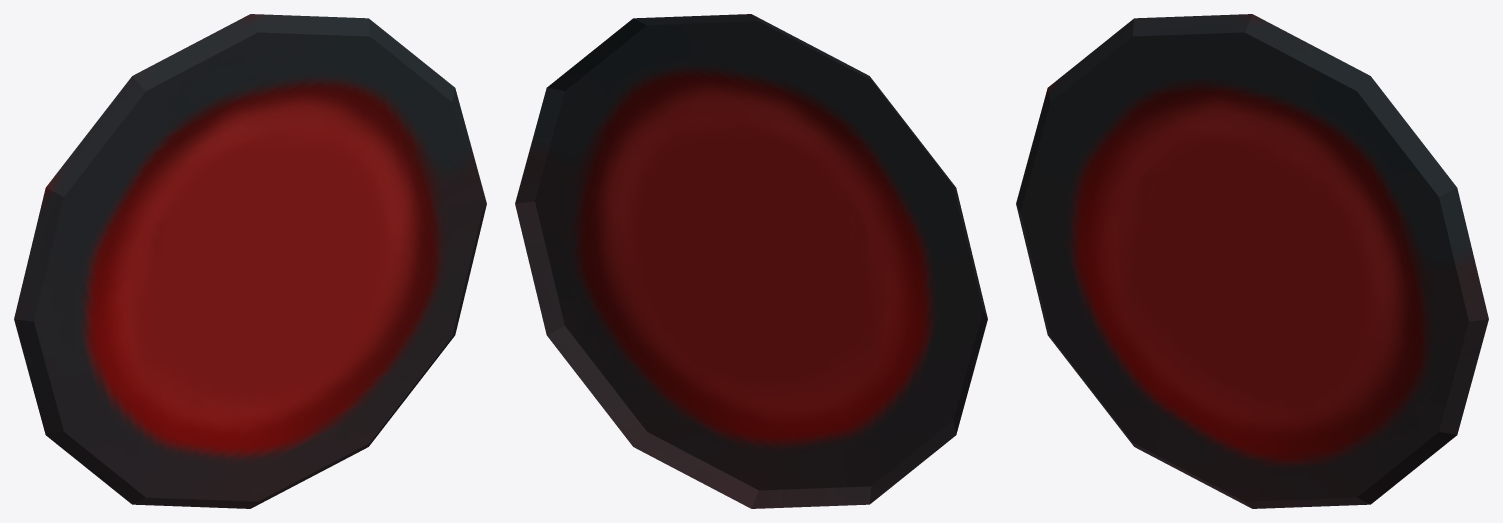
Rendered from battle_enemy_life.DAE.
The picture shows the model from 3 angles, left to right: view 1: azimuth 30°, elevation 25°; view 2: azimuth 150°, elevation 25°; view 3: azimuth 330°, elevation 25°; orthographic projection.
Parts seen in each view (by area): view 1: battle_003; view 2: battle_003; view 3: battle_003.
Boxes of the visible parts, x1,y1,x2,y2 form: battle_003: (14, 14, 486, 508); battle_003: (515, 14, 987, 508); battle_003: (1016, 14, 1488, 508).
Bounding box in the file's own units: 91.71 × 91.71 × 2.57.
1 material, 1 textured.
